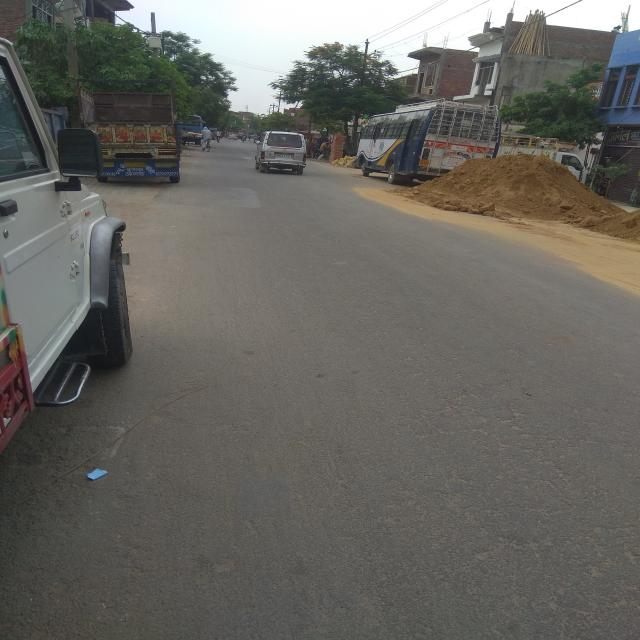Car: (245, 130, 312, 175)
Truck: (353, 103, 500, 184)
